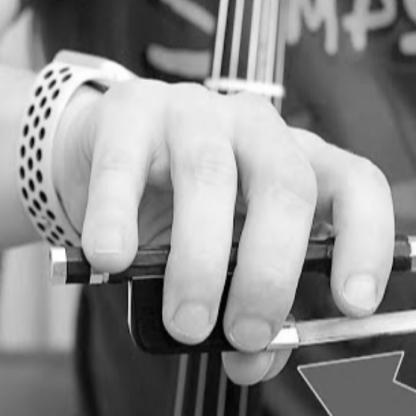good: (86, 55, 404, 354)
